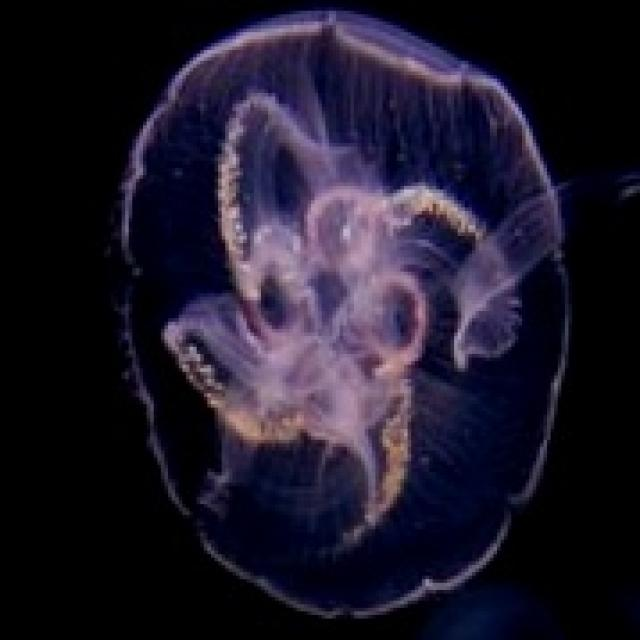Jellyfish: (114, 7, 572, 619)
